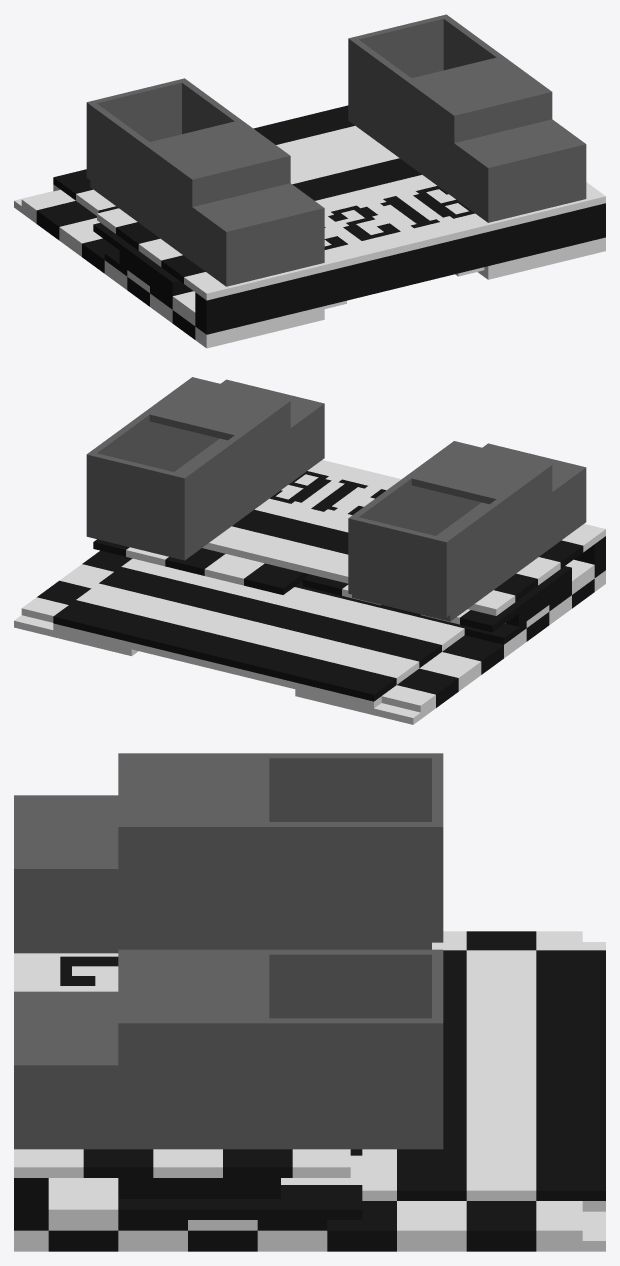
File: main_char_prisoner_katlanmış.fbx
The picture shows the model from 3 angles, top to bottom: view 1: azimuth 30°, elevation 25°; view 2: azimuth 150°, elevation 25°; view 3: azimuth 270°, elevation 25°; orthographic projection. The views are drawn at different scales.
Parts seen in each view (by area): view 1: shoes, prisoner cloth; view 2: prisoner cloth, shoes; view 3: shoes, prisoner cloth.
Boxes of the visible parts, left/top/right/bottom form: shoes: left=86, top=14, right=586, bottom=286; prisoner cloth: left=14, top=105, right=605, bottom=348; prisoner cloth: left=14, top=460, right=605, bottom=724; shoes: left=86, top=377, right=586, bottom=621; shoes: left=14, top=753, right=443, bottom=1149; prisoner cloth: left=14, top=931, right=605, bottom=1251.
Size of the model in its own units: 610 by 203 by 510.
1 material, 1 textured.
